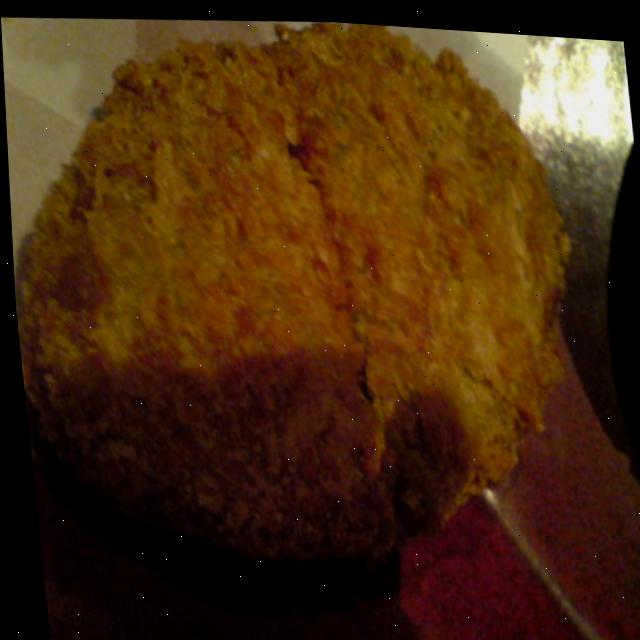炸货点心: (1, 26, 603, 619)
